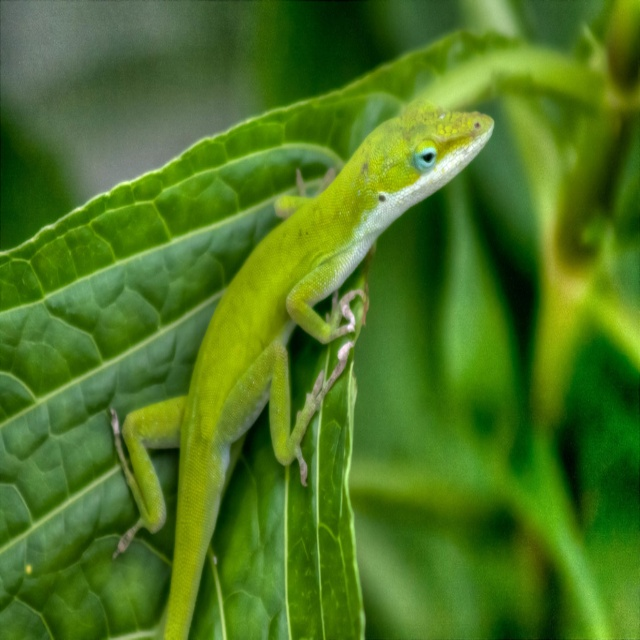Lizard: (110, 99, 495, 640)
